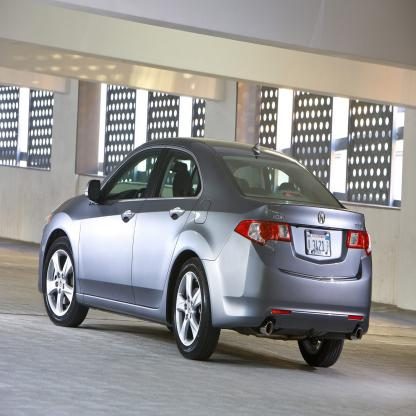Vehicle: (37, 136, 371, 369)
